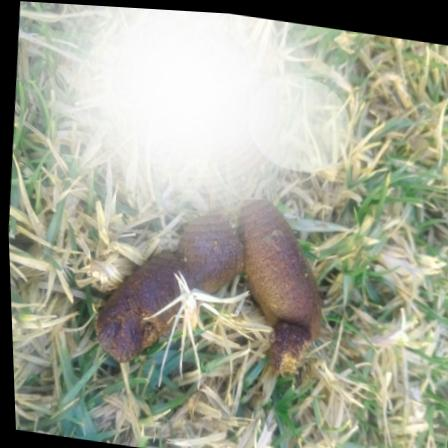dog-poop: (73, 180, 325, 381)
